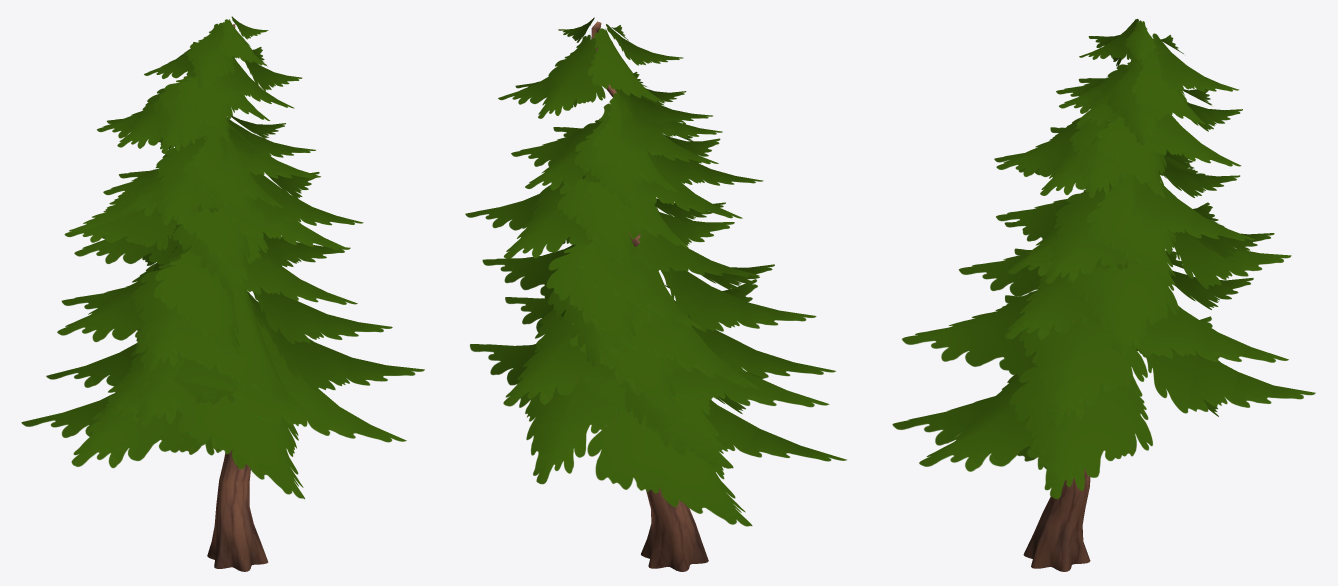
Rendered from n_pine4.glb.
3 views of the same model, side by side, from view 1: azimuth 30°, elevation 25°; view 2: azimuth 150°, elevation 25°; view 3: azimuth 270°, elevation 25° (orthographic). The views are drawn at different scales.
Visible parts, largest first — view 1: Pine_5; view 2: Pine_5; view 3: Pine_5.
Part boxes in pixels (x1,y1,x2,y2): Pine_5: [21, 16, 424, 571]; Pine_5: [465, 17, 846, 571]; Pine_5: [892, 18, 1315, 571].
Bounding box in the file's own units: 6.42 × 8.72 × 6.22.
Materials: 2 (2 with a texture image).
